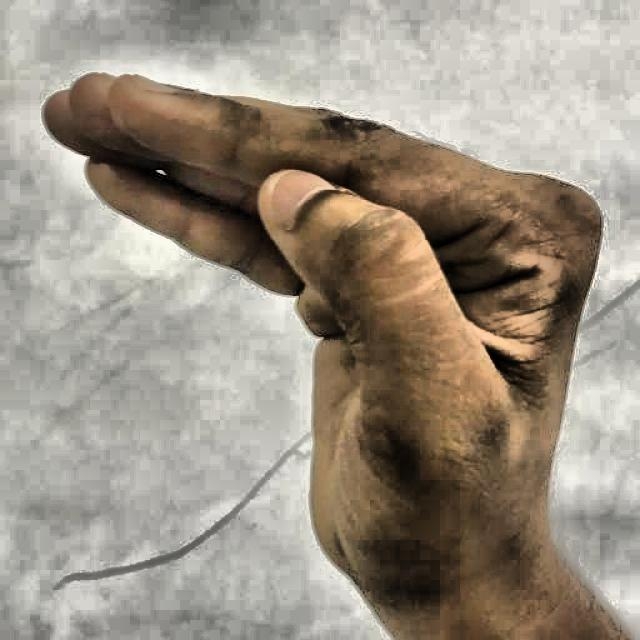Ga: (24, 32, 622, 607)
